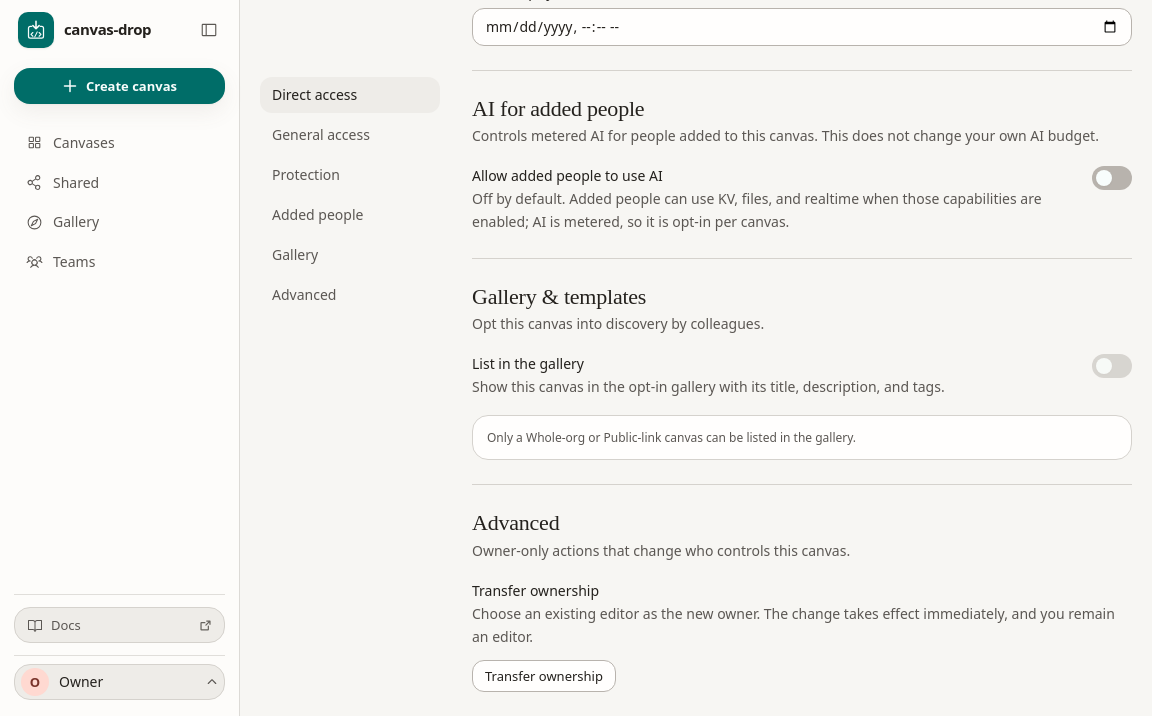
share route — roles and ownership (editor-roles plan U6) › review #7: the transfer picker offers the server's candidates — a team-derived editor with no direct row
(page scrolled)
Click the button "Transfer ownership". click: click(544, 676)
box: [472,660,616,692]
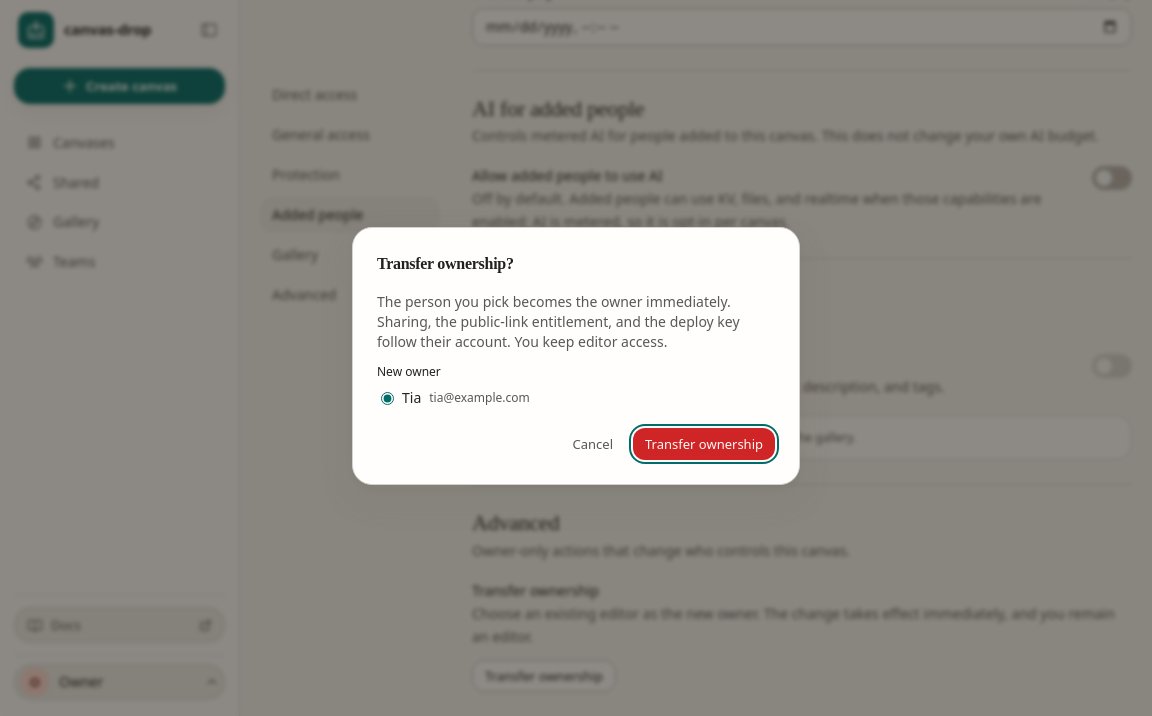
Check: the radio button labelled "Tia tia@example.com" is shown, box [381,392,394,404]
